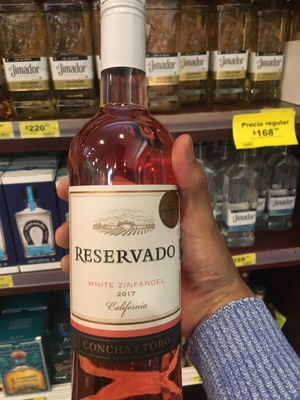reservado white zinfandel: (65, 8, 183, 400)
